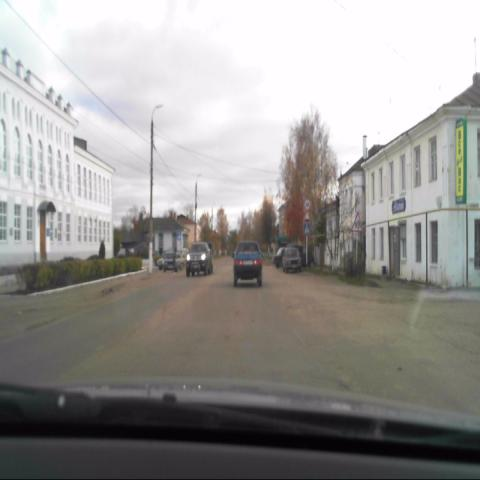3_24: (304, 198, 310, 210)
5_19_1: (303, 223, 310, 235)
